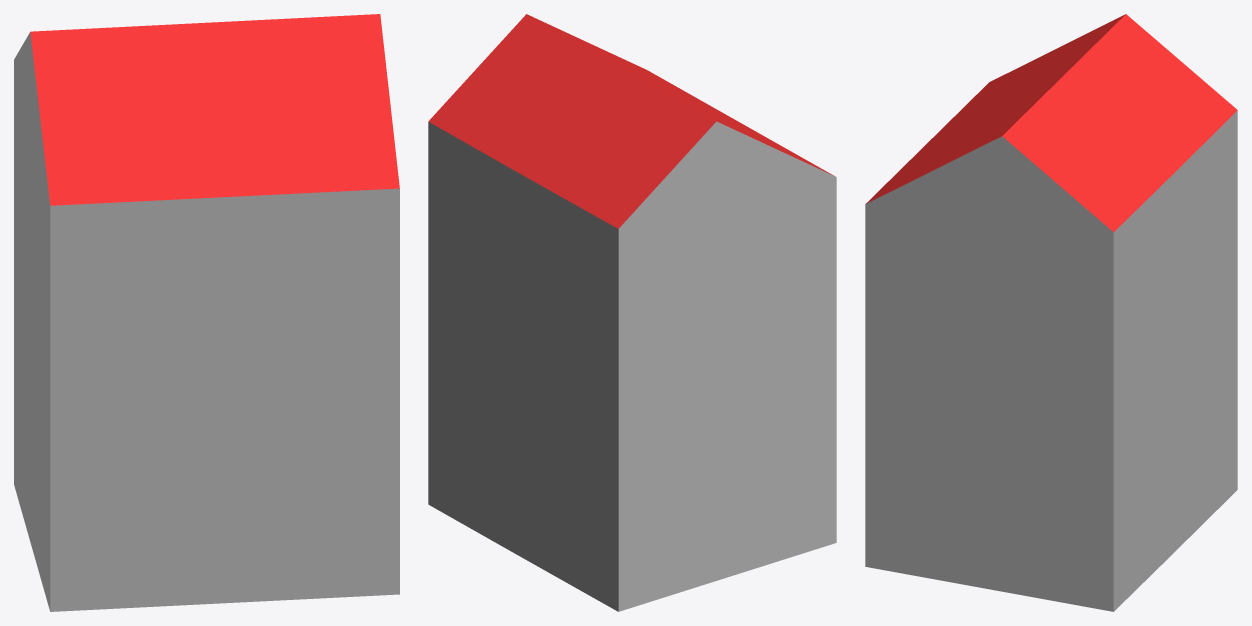
Rendered from DEBY_LOD2_4907031.dae.
3 renders of one model, left to right at view 1: azimuth 30°, elevation 25°; view 2: azimuth 150°, elevation 25°; view 3: azimuth 270°, elevation 25°, orthographic. The views are drawn at different scales.
Size of the model in its own units: 17.35 by 16.34 by 22.04.
